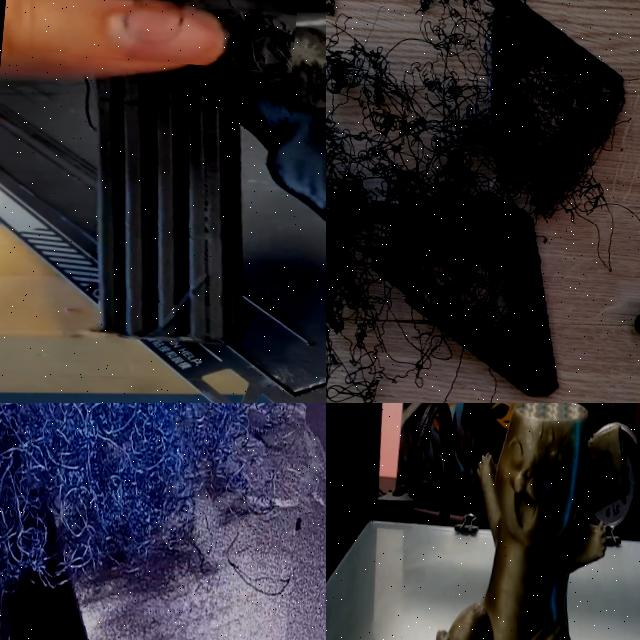spaghetti: (326, 0, 640, 403), (0, 403, 325, 640), (13, 0, 309, 73)
